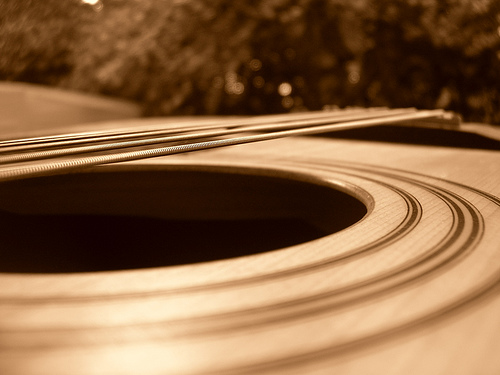guitar: (1, 105, 500, 375)
